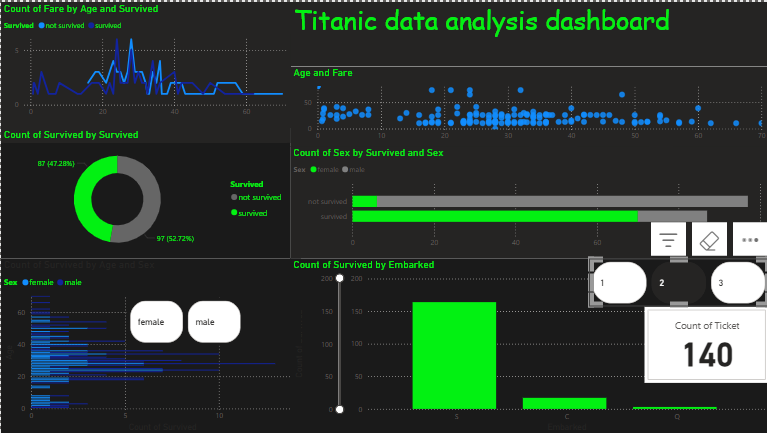

Layout of this report page (visuals, bound fields, positions):
{"tool":"powerbi","page":{"name":"Page 1","canvas":[1280,720],"ordinal":0},"visuals":[{"type":"donutChart","fields":{"Y":["CountNonNull(Titanic dataset.Survived)"],"Category":["Titanic dataset.Survived"]},"box":[0,210,482.5,217.5],"z":0},{"type":"barChart","fields":{"Category":["Titanic dataset.Survived"],"Y":["CountNonNull(Titanic dataset.Sex)"],"Series":["Titanic dataset.Sex"]},"box":[482.5,240,797.5,187.5],"z":1000},{"type":"barChart","fields":{"Category":["Titanic dataset.Age"],"Y":["CountNonNull(Titanic dataset.Survived)"],"Series":["Titanic dataset.Sex"]},"box":[0,427.3,500,292.7],"z":2000},{"type":"clusteredColumnChart","fields":{"Category":["Titanic dataset.Embarked"],"Y":["CountNonNull(Titanic dataset.Survived)"]},"box":[483.3,426.7,796.7,293.3],"z":3000},{"type":"scatterChart","fields":{"X":["Titanic dataset.Age"],"Y":["Titanic dataset.Fare"]},"box":[483.3,106.7,796.7,133.3],"z":4000},{"type":"advancedSlicerVisual","fields":{"Values":["Titanic dataset.Sex"]},"box":[210,492.5,290,80],"z":5000},{"type":"lineChart","fields":{"Category":["Titanic dataset.Age"],"Y":["Count(Titanic dataset.Fare)"],"Series":["Titanic dataset.Survived"]},"box":[0,0,483.3,210],"z":6000},{"type":"advancedSlicerVisual","fields":{"Values":["Titanic dataset.Pclass"]},"box":[980,426.7,300,80],"z":7000},{"type":"cardVisual","fields":{"Data":["Count(Titanic dataset.Ticket)"]},"box":[1073.3,510,206.7,126.7],"z":8000},{"type":"textbox","title":"Titanic data analysis dashboard","box":[483.3,0,796.7,106.7],"z":9000}]}

Visuals, with their boxes on the page's 1280x720 design canvas (x1, y1, x2, y2). These are canvas units, not pixel positions in the 767x433 screenshot, which may show the page scaled, cropped or inside an application window:
donutChart - CountNonNull(Titanic dataset.Survived) x Titanic dataset.Survived: {"x1": 0, "y1": 210, "x2": 482, "y2": 428}
barChart - Titanic dataset.Survived x CountNonNull(Titanic dataset.Sex): {"x1": 482, "y1": 240, "x2": 1280, "y2": 428}
barChart - Titanic dataset.Age x CountNonNull(Titanic dataset.Survived): {"x1": 0, "y1": 427, "x2": 500, "y2": 720}
clusteredColumnChart - Titanic dataset.Embarked x CountNonNull(Titanic dataset.Survived): {"x1": 483, "y1": 427, "x2": 1280, "y2": 720}
scatterChart - Titanic dataset.Age x Titanic dataset.Fare: {"x1": 483, "y1": 107, "x2": 1280, "y2": 240}
advancedSlicerVisual - Titanic dataset.Sex: {"x1": 210, "y1": 492, "x2": 500, "y2": 572}
lineChart - Titanic dataset.Age x Count(Titanic dataset.Fare): {"x1": 0, "y1": 0, "x2": 483, "y2": 210}
advancedSlicerVisual - Titanic dataset.Pclass: {"x1": 980, "y1": 427, "x2": 1280, "y2": 507}
cardVisual - Count(Titanic dataset.Ticket): {"x1": 1073, "y1": 510, "x2": 1280, "y2": 637}
"Titanic data analysis dashboard" textbox: {"x1": 483, "y1": 0, "x2": 1280, "y2": 107}
